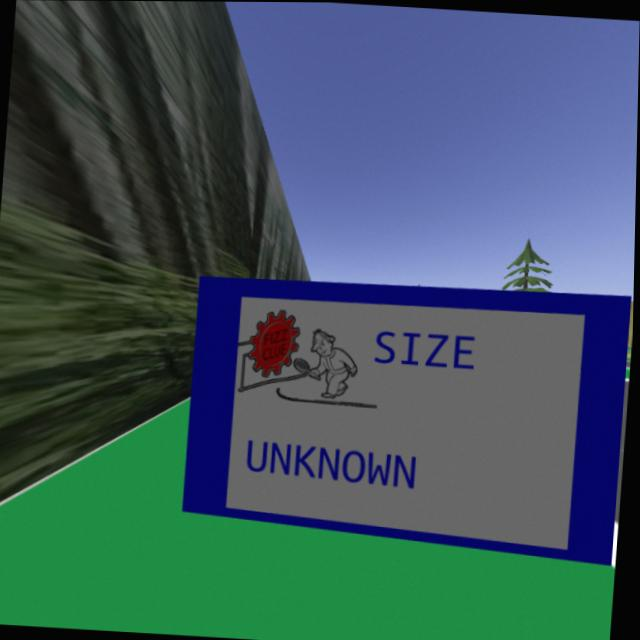clueboard: (163, 263, 634, 571)
